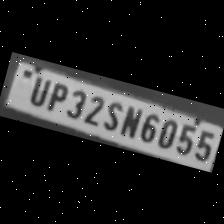0: (153, 112, 180, 150)
2: (80, 90, 107, 127)
3: (62, 84, 89, 120)
5: (171, 118, 199, 156), (190, 124, 218, 162)
6: (136, 106, 162, 144)
N: (117, 100, 144, 140)
P: (42, 76, 70, 114)
S: (99, 96, 126, 132)
U: (23, 71, 52, 107)
